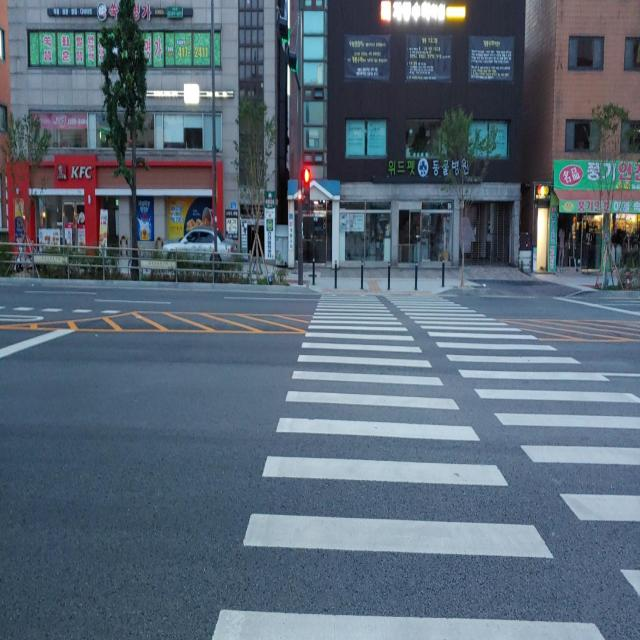빨간불: (302, 162, 310, 205)
횡단보도: (208, 290, 640, 640)
